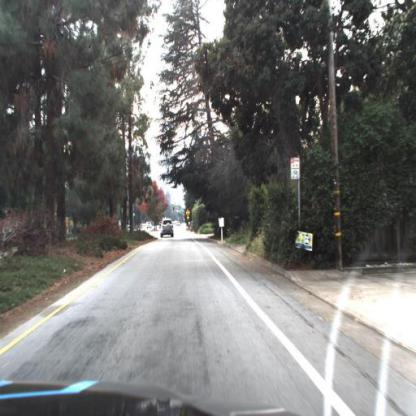car: (157, 214, 177, 241)
